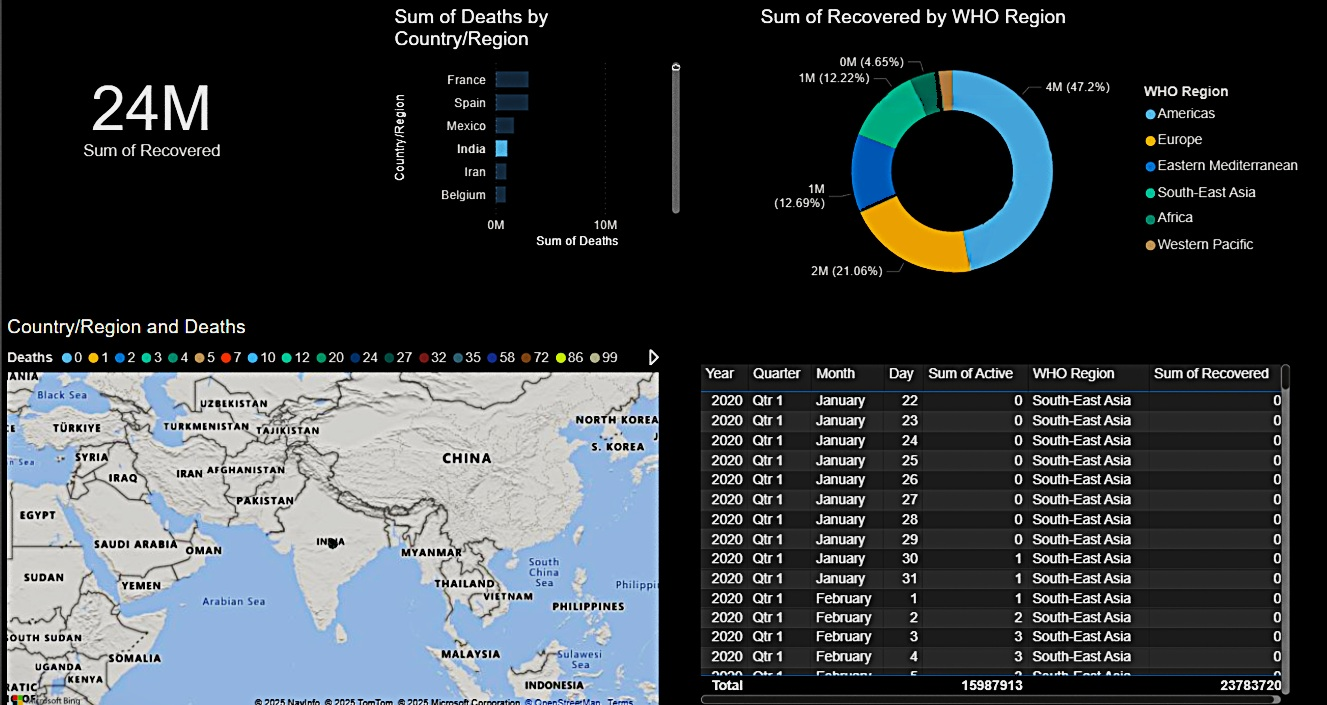

Layout of this report page (visuals, bound fields, positions):
{"tool":"powerbi","page":{"name":"Page 1","canvas":[1280,720],"ordinal":0},"visuals":[{"type":"map","fields":{"Category":["covid_19_clean_complete.Country/Region"],"Series":["covid_19_clean_complete.Deaths"]},"box":[0,329.3,639.5,391.1],"z":0},{"type":"tableEx","fields":{"Values":["covid_19_clean_complete.Date.Variation.Date Hierarchy.Year","covid_19_clean_complete.Date.Variation.Date Hierarchy.Quarter","covid_19_clean_complete.Date.Variation.Date Hierarchy.Month","covid_19_clean_complete.Date.Variation.Date Hierarchy.Day","Sum(covid_19_clean_complete.Active)","covid_19_clean_complete.WHO Region","Sum(covid_19_clean_complete.Recovered)"]},"box":[668.4,371.6,580.3,337.8],"z":1000},{"type":"card","fields":{"Values":["Sum(covid_19_clean_complete.Recovered)"]},"box":[30.2,27.4,229.2,211.3],"z":2000},{"type":"clusteredBarChart","fields":{"Category":["covid_19_clean_complete.Country/Region"],"Y":["Sum(covid_19_clean_complete.Deaths)"]},"box":[374,30.2,285.9,238.9],"z":3000},{"type":"donutChart","fields":{"Category":["country_wise_latest.WHO Region"],"Y":["Sum(country_wise_latest.Recovered)"]},"box":[727.3,30.2,537.9,299.1],"z":4000}]}

Visuals, with their boxes on the page's 1280x720 design canvas (x1, y1, x2, y2). These are canvas units, not pixel positions in the 1327x705 screenshot, which may show the page scaled, cropped or inside an application window:
map - covid_19_clean_complete.Country/Region x covid_19_clean_complete.Deaths: [x1=0, y1=329, x2=640, y2=720]
tableEx - covid_19_clean_complete.Date.Variation.Date Hierarchy.Year x covid_19_clean_complete.Date.Variation.Date Hierarchy.Quarter: [x1=668, y1=372, x2=1249, y2=709]
card - Sum(covid_19_clean_complete.Recovered): [x1=30, y1=27, x2=259, y2=239]
clusteredBarChart - covid_19_clean_complete.Country/Region x Sum(covid_19_clean_complete.Deaths): [x1=374, y1=30, x2=660, y2=269]
donutChart - country_wise_latest.WHO Region x Sum(country_wise_latest.Recovered): [x1=727, y1=30, x2=1265, y2=329]
